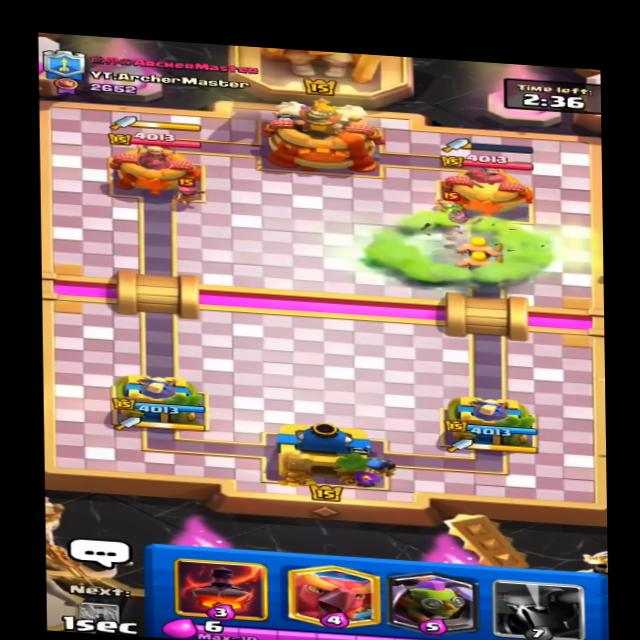archer: (166, 175, 212, 204), (431, 187, 470, 219)
